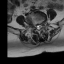CCS_normal: (37, 22, 39, 32)
LFS_normal: (41, 21, 43, 28)
LLS_normal: (39, 22, 41, 30)
RFS_normal: (34, 22, 36, 29)
RLS_normal: (36, 22, 37, 30)
